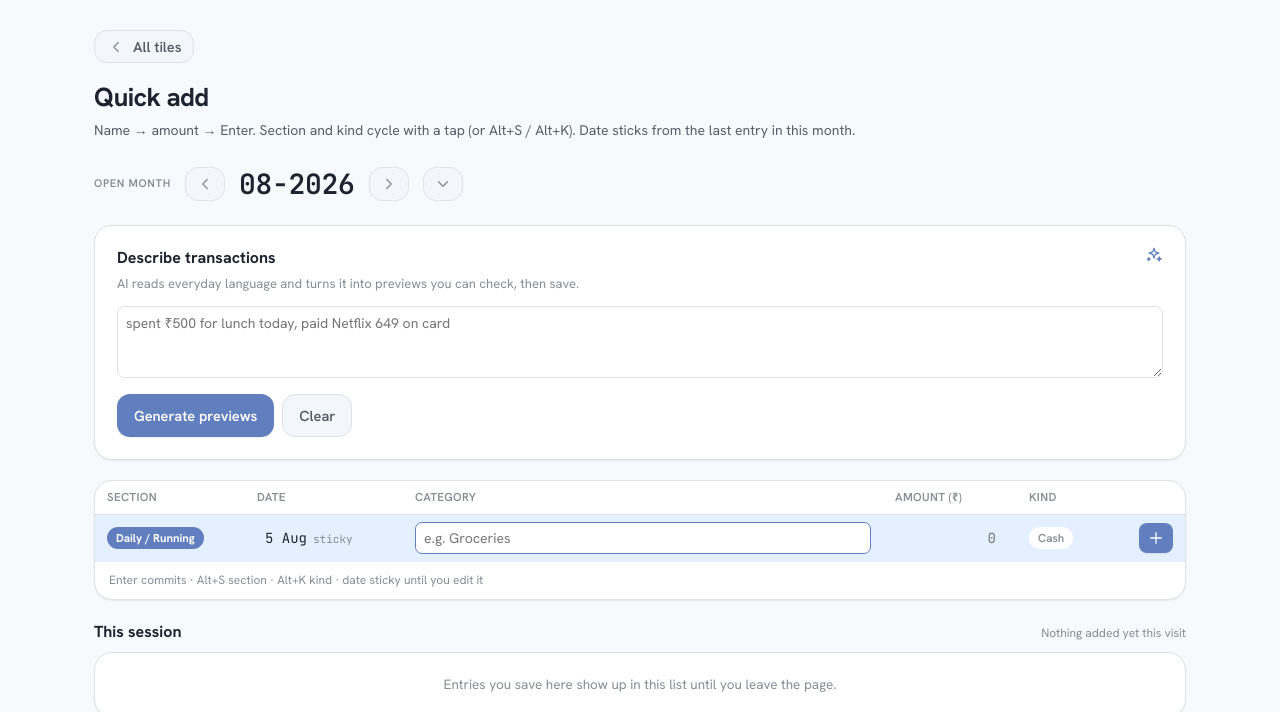
Test: RecordEntryPage AI previews › saves one ready row into this session with cache invalidation
The image size is (1280, 712).
Expected: the heading "Quick add" is shown, [94,80,208,114]
Type "lunch 500.25" into the text box labelled "Describe transactions" at (640, 342), box [117,306,1163,378]
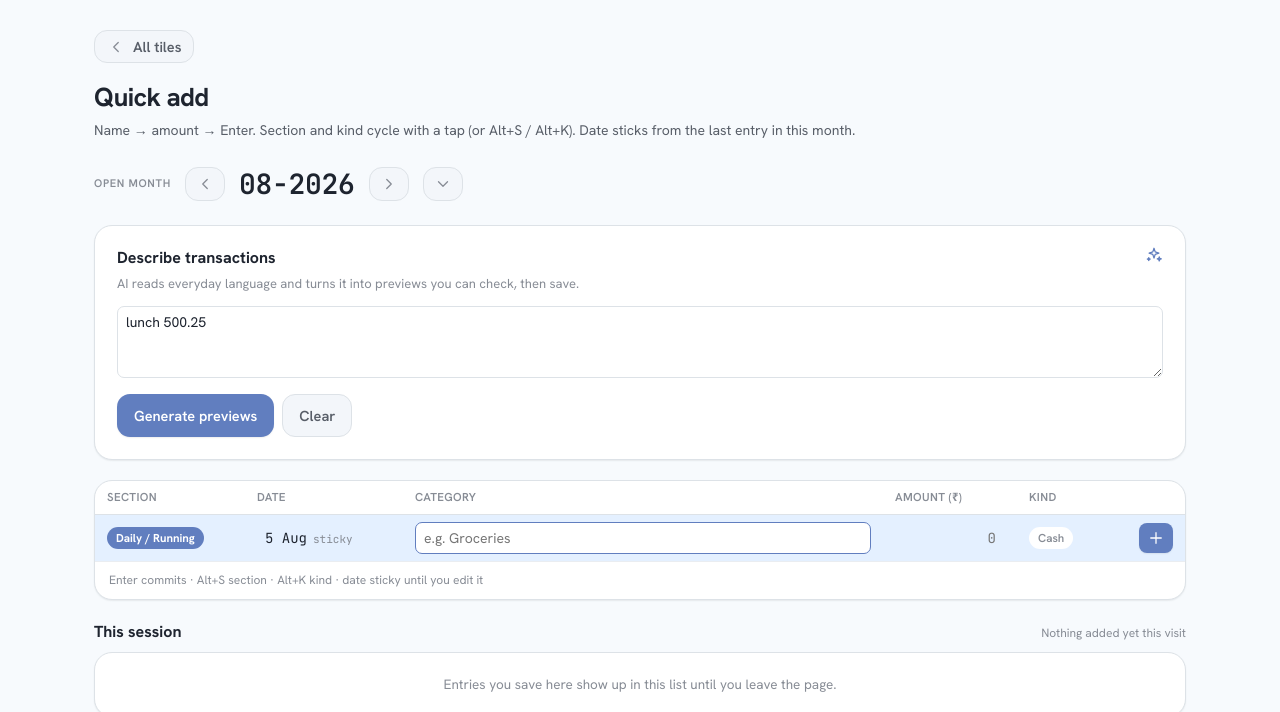
Click the button "Generate previews" at (196, 416), box [117,394,274,437]
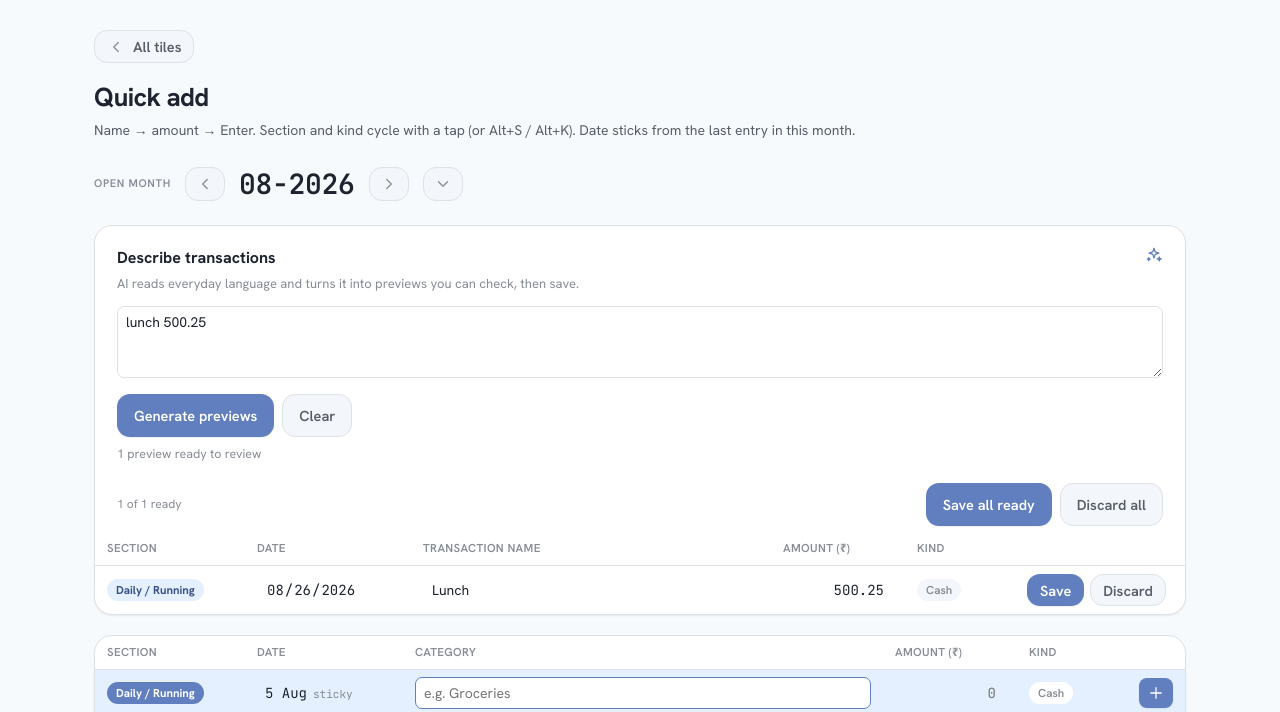
Result: the text "1 preview ready to review" is shown at [117,445,262,462]
Click the button with aria-label "Save Lunch" at (1056, 590), box [1027,574,1084,606]
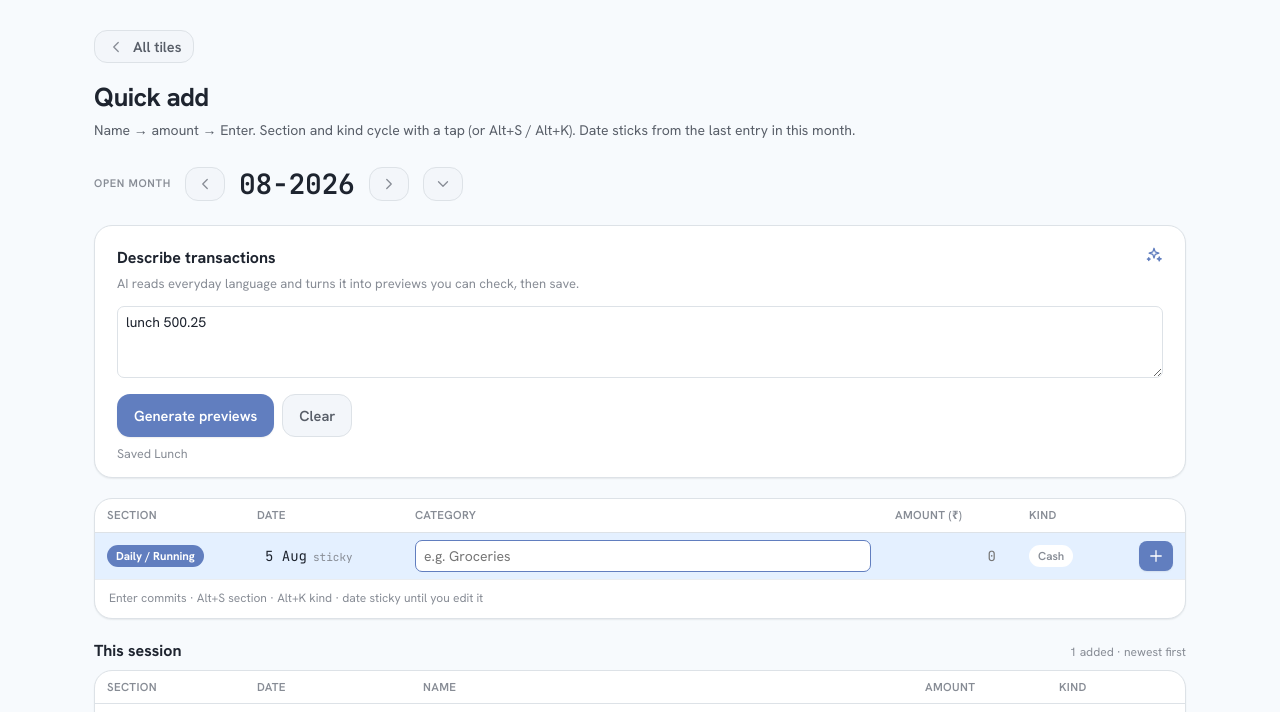
Result: the text "1 added · newest first" is shown at [1070,644,1186,661]
